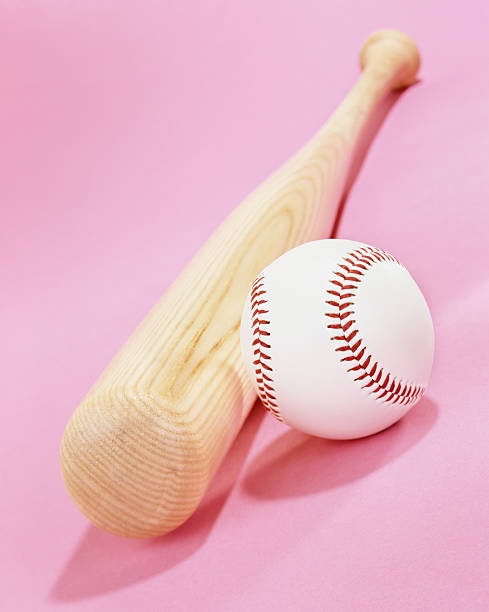bita: (56, 37, 416, 533)
